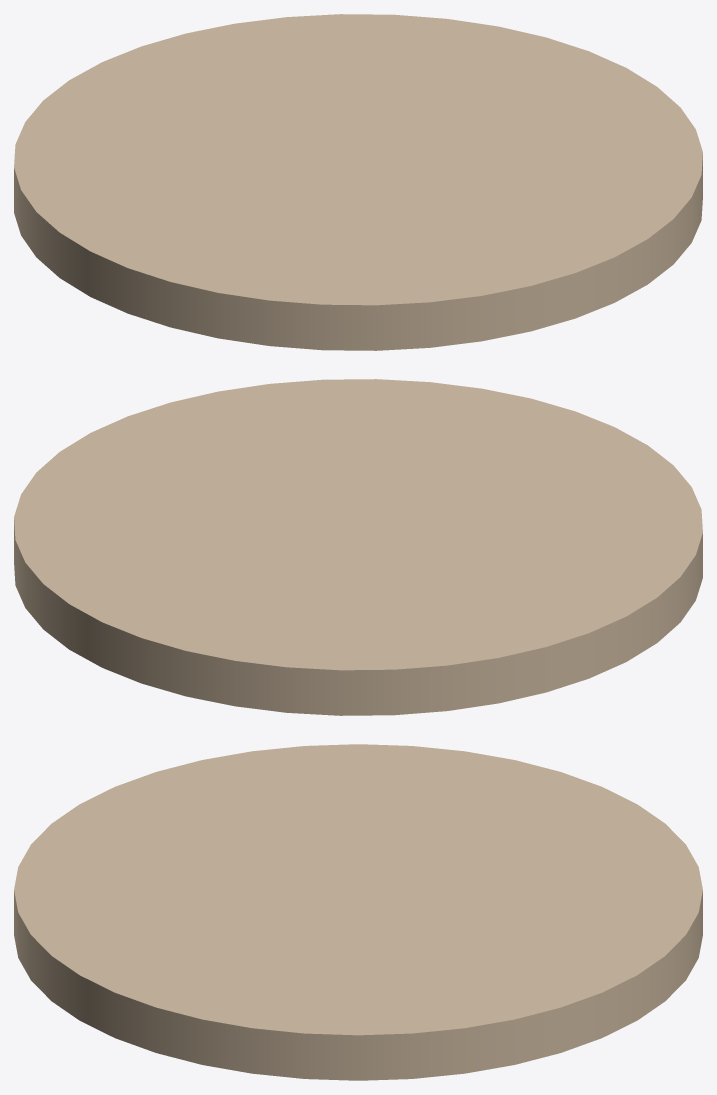
3 renders of one model, top to bottom at view 1: azimuth 30°, elevation 25°; view 2: azimuth 150°, elevation 25°; view 3: azimuth 270°, elevation 25°, orthographic.
Visible parts, largest first — view 1: pCylinder2; view 2: pCylinder2; view 3: pCylinder2.
Part boxes in pixels (x1,y1,x2,y2): pCylinder2: (14, 14, 702, 350); pCylinder2: (14, 379, 702, 715); pCylinder2: (14, 744, 702, 1080).
Size of the model in its own units: 4 by 0.2912 by 4.
